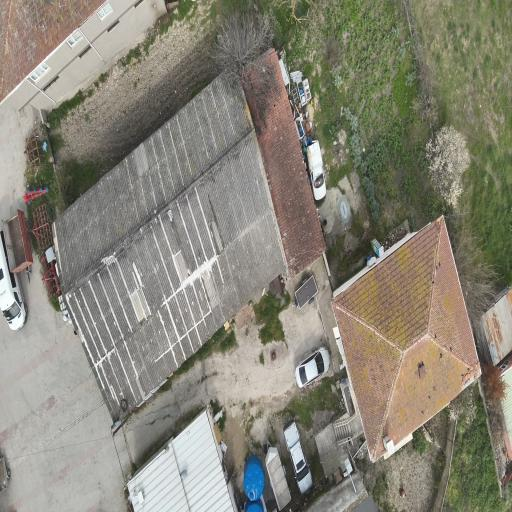car: (0, 235, 27, 330), (284, 421, 312, 493), (296, 346, 330, 388), (307, 141, 326, 200)
